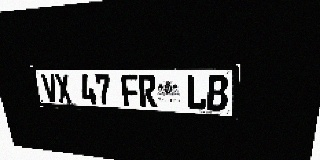4: (79, 74, 98, 105)
7: (94, 74, 113, 105)
B: (207, 75, 229, 111)
F: (121, 74, 140, 107)
L: (186, 75, 206, 110)
R: (138, 75, 157, 108)
V: (41, 74, 59, 102)
X: (54, 74, 73, 103)
